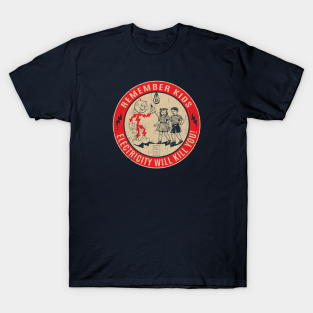design: (111, 78, 203, 170)
